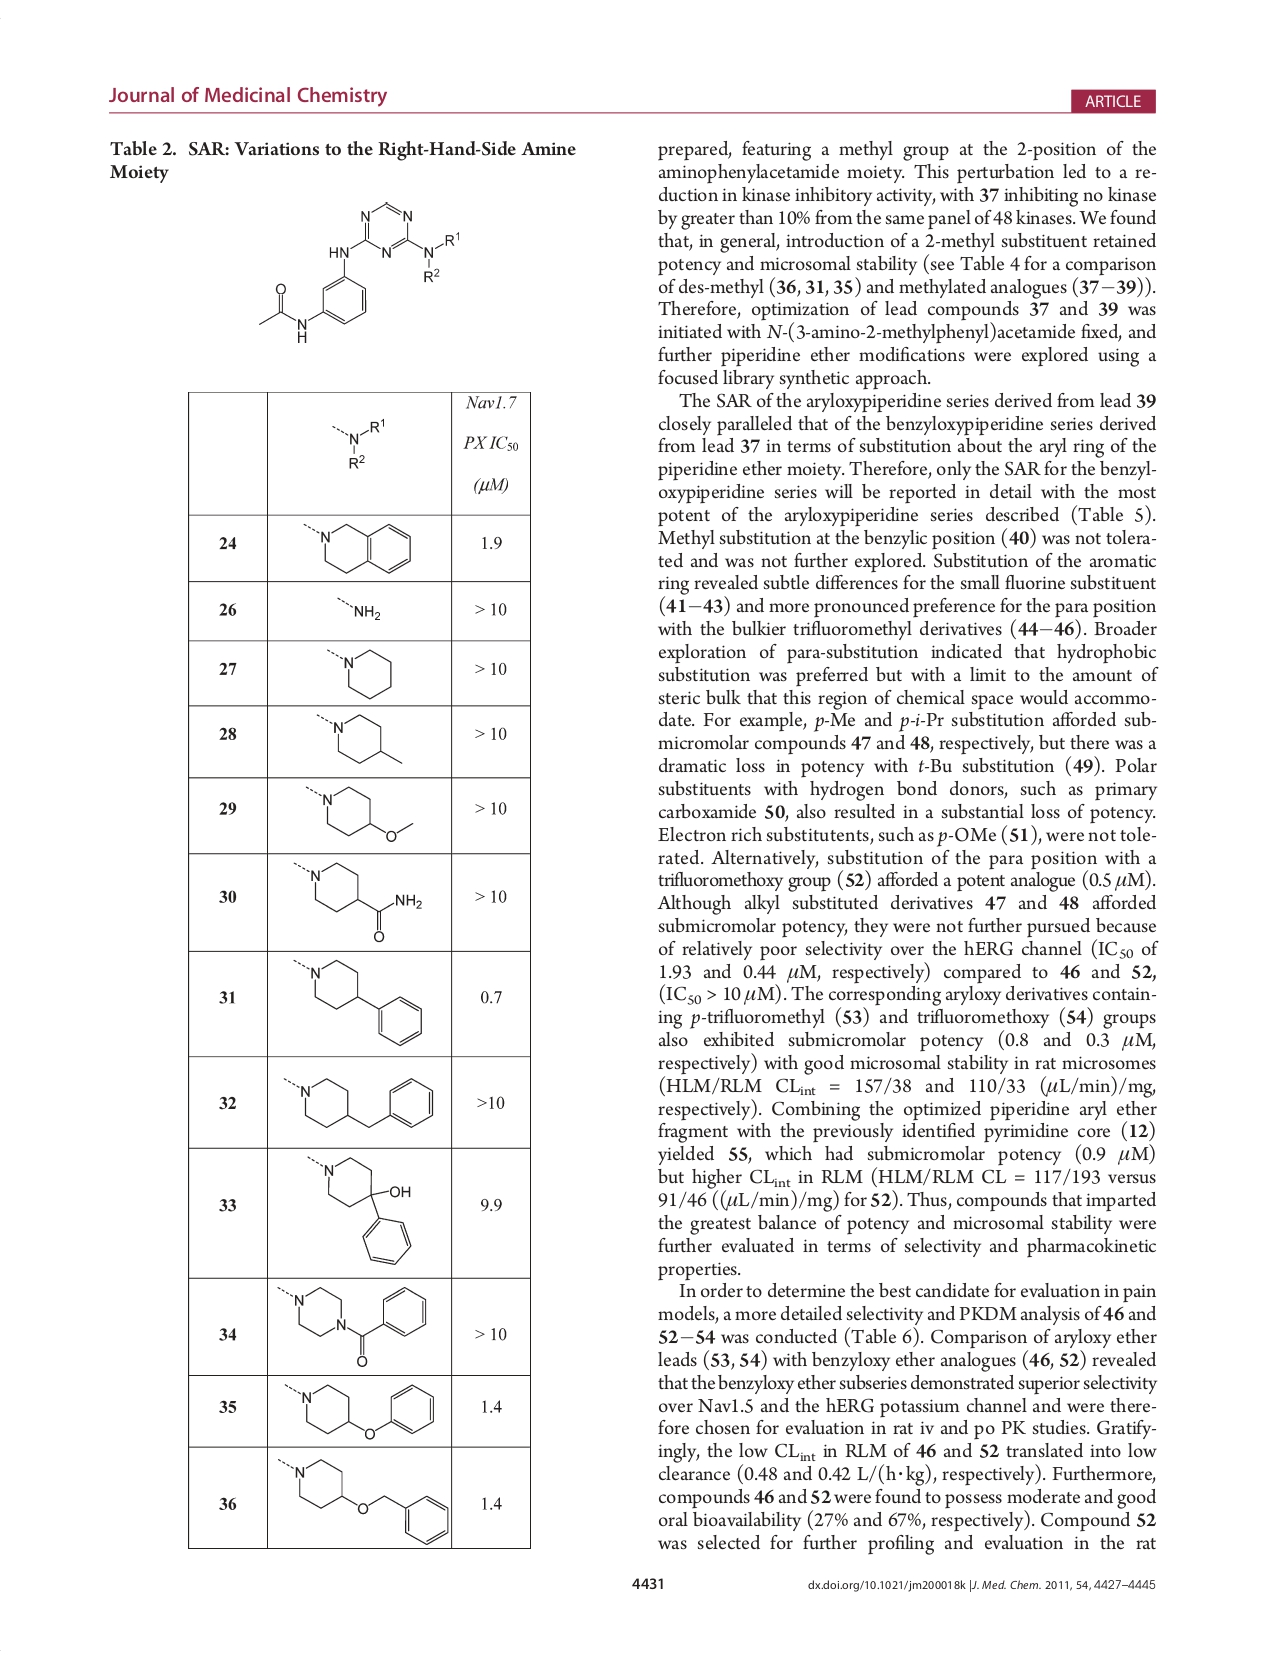exist_molecular: (253, 198, 461, 344), (273, 1454, 453, 1547), (275, 1283, 432, 1370), (303, 1150, 415, 1270), (290, 956, 428, 1048), (286, 856, 426, 943), (278, 1072, 438, 1133), (281, 1382, 438, 1440), (302, 782, 414, 843), (298, 519, 416, 576), (310, 710, 404, 770), (320, 645, 396, 701), (330, 410, 386, 473)
